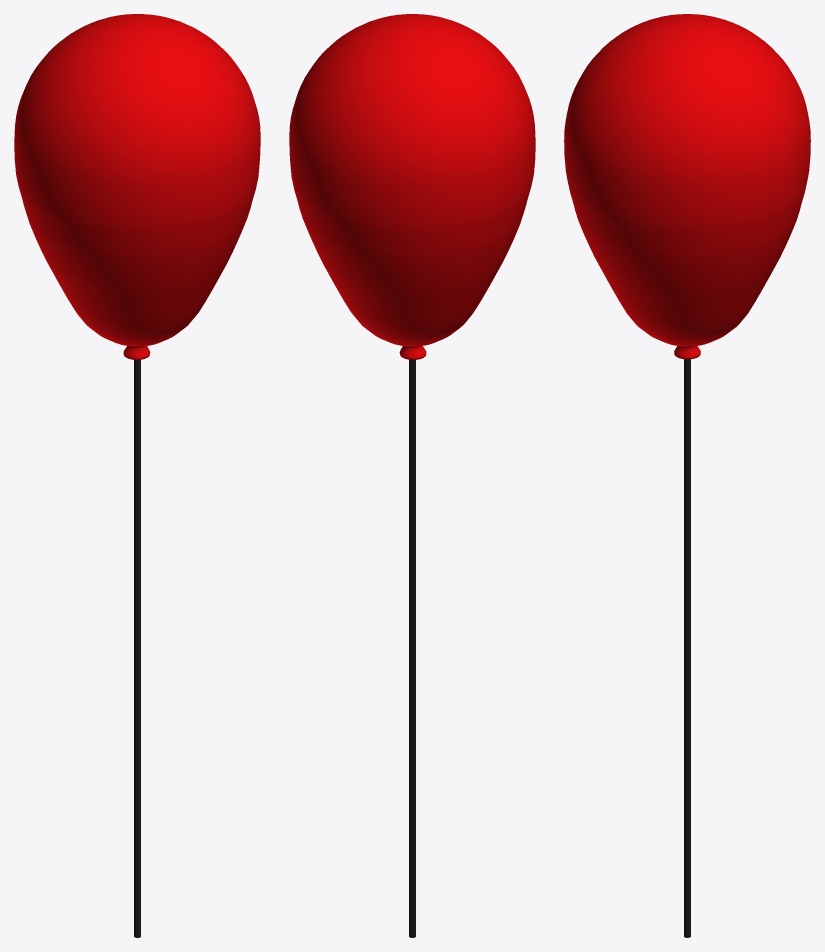
File: Balloon.fbx
3 renders of one model, left to right at view 1: azimuth 30°, elevation 25°; view 2: azimuth 150°, elevation 25°; view 3: azimuth 270°, elevation 25°, orthographic.
Parts seen in each view (by area): view 1: Balloon; view 2: Balloon; view 3: Balloon.
Boxes of the visible parts, left/top/right/bottom form: Balloon: left=14, top=14, right=260, bottom=937; Balloon: left=289, top=14, right=535, bottom=937; Balloon: left=564, top=14, right=810, bottom=937.
Bounding box in the file's own units: 68.3 × 278 × 68.3.
